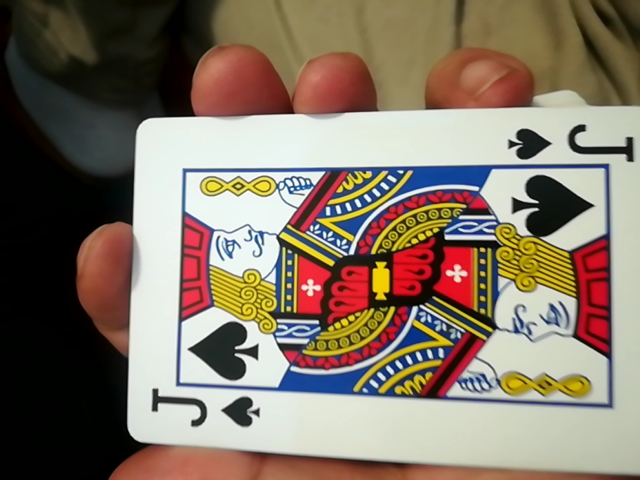ht j: (103, 107, 631, 478)
